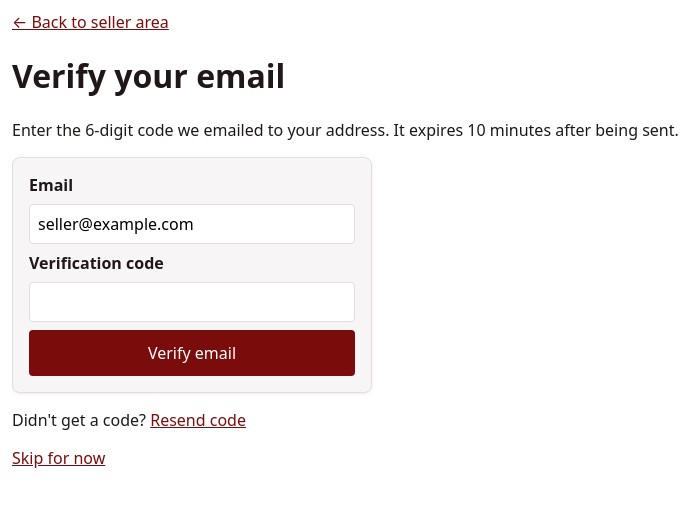
Test case: VerifyEmail › shows an error message if resending fails
Click the button "Resend code" at (198, 420), box x1=150 y1=409 x2=246 y2=431
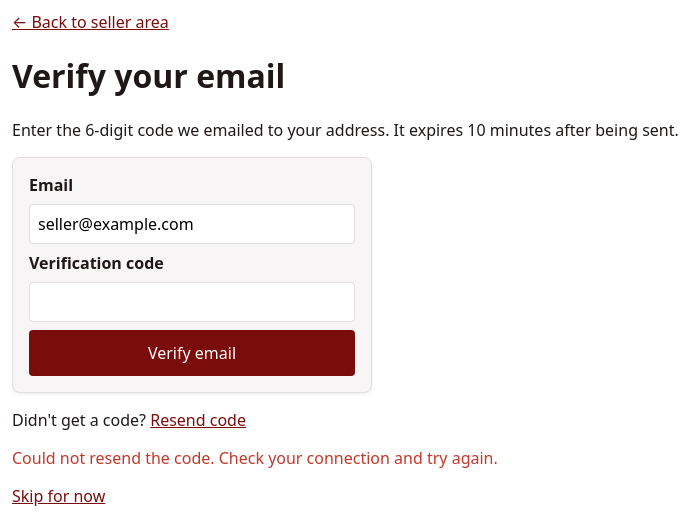
Now the message reads "Could not resend the code. Check your connection and try again.", box x1=12 y1=447 x2=498 y2=469
